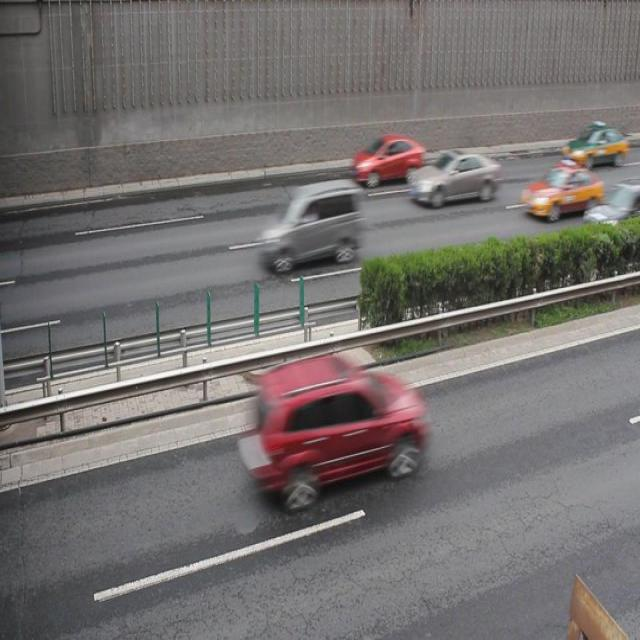car: (244, 351, 425, 507), (408, 146, 500, 207), (520, 162, 602, 221), (350, 133, 424, 185), (560, 121, 623, 169)
truck: (257, 180, 360, 272)
